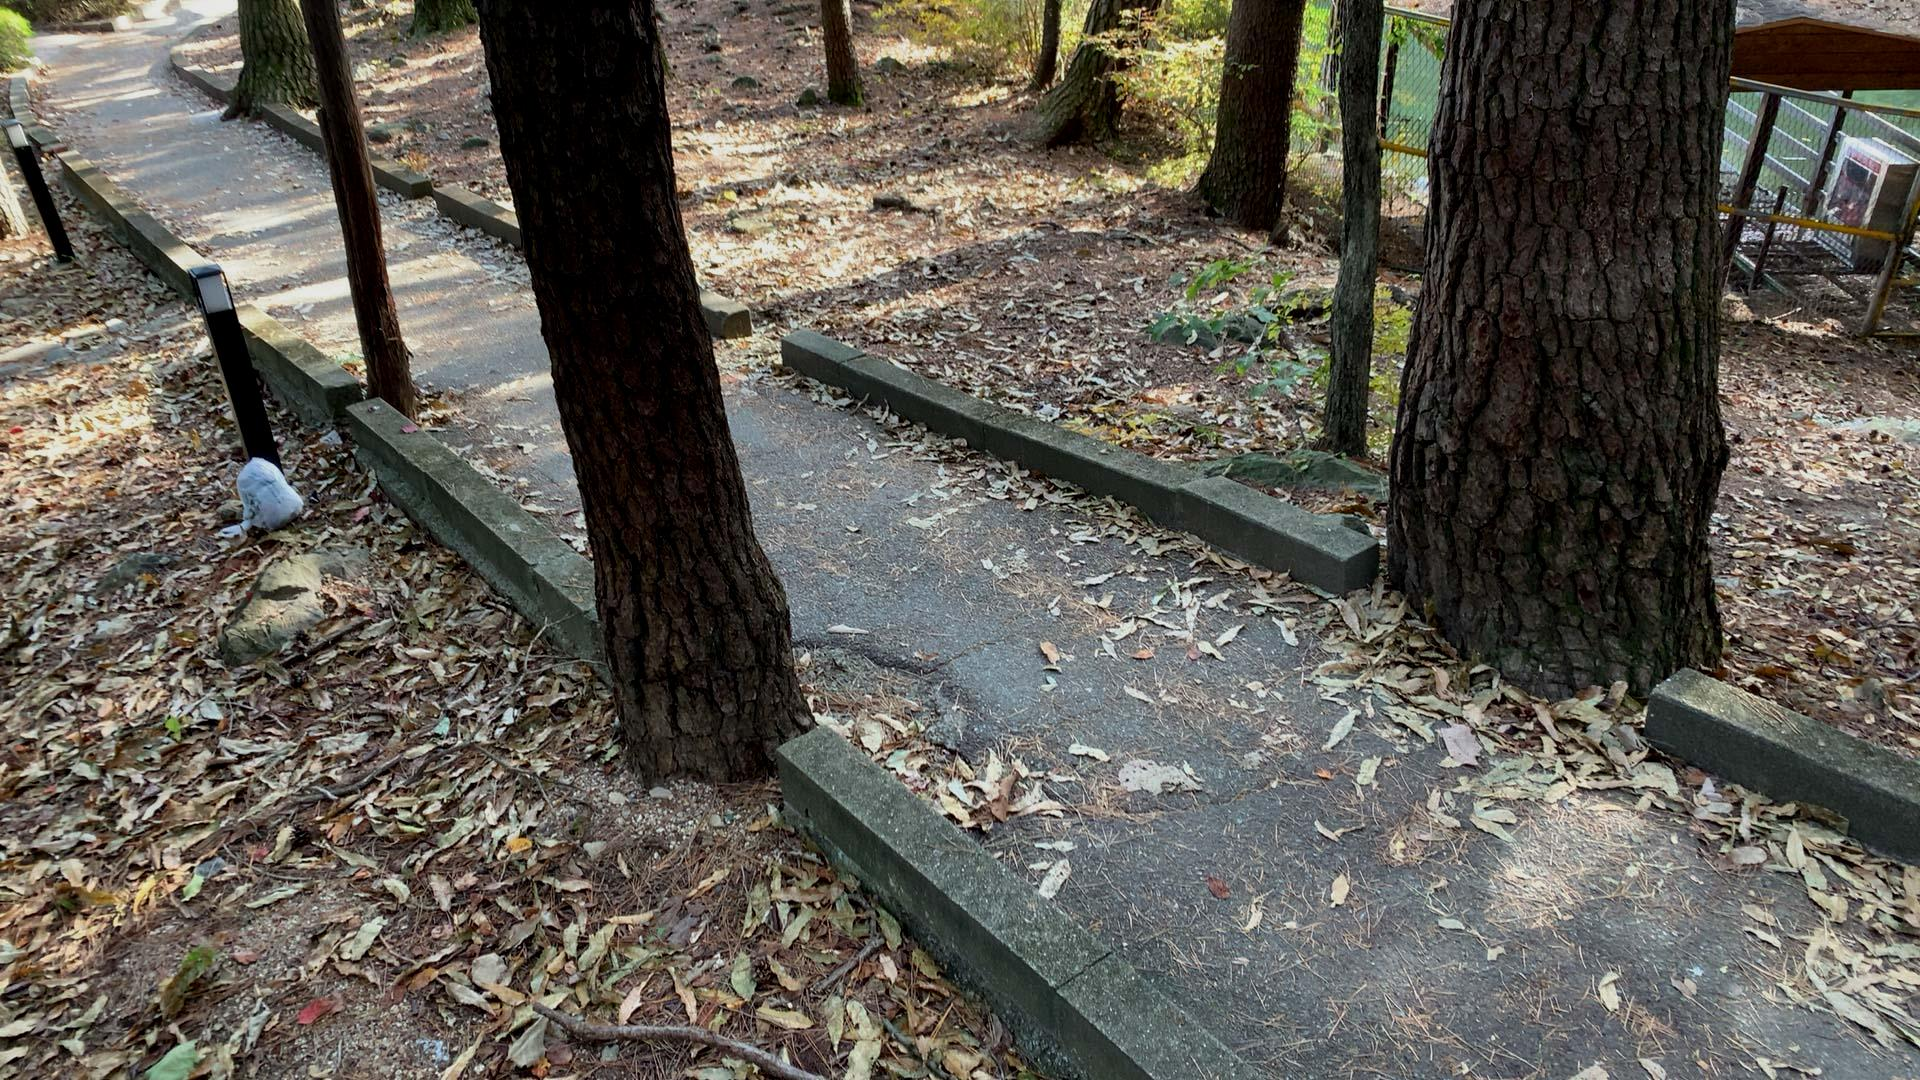white_bag: (225, 454, 311, 533)
